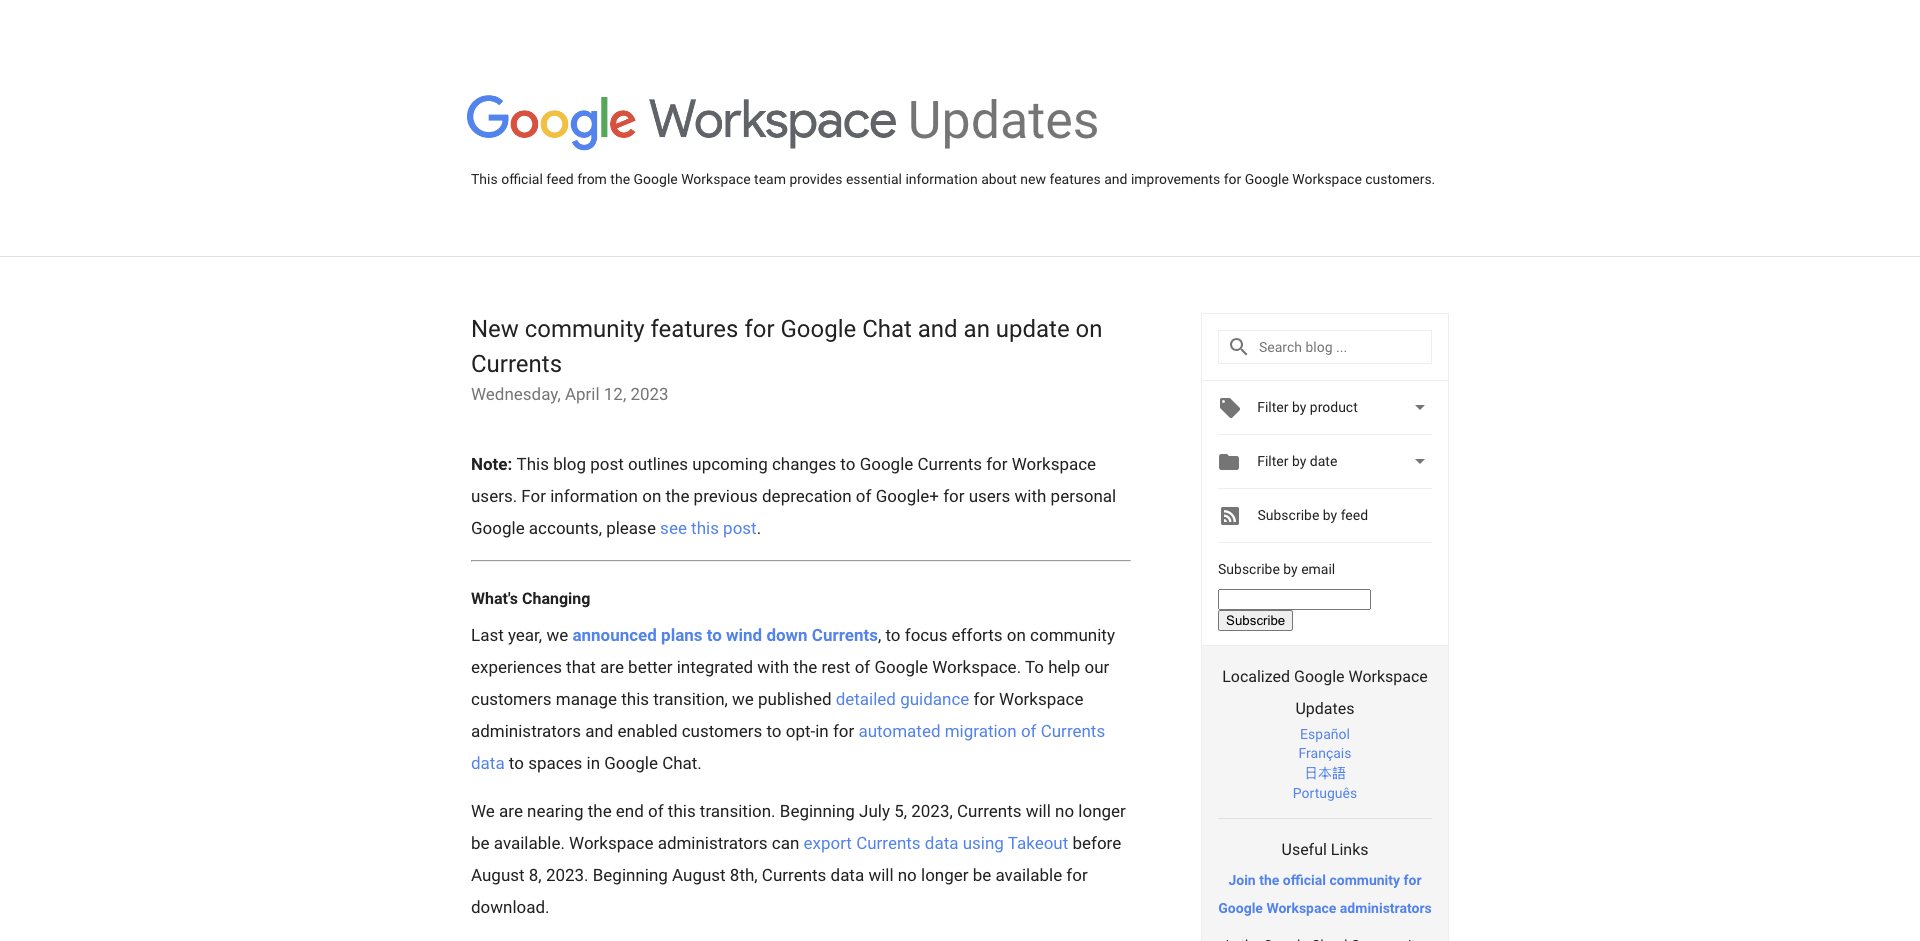button: (1218, 610, 1293, 631)
input: (1218, 330, 1431, 364), (1218, 589, 1371, 610)
link: (471, 315, 1102, 379), (471, 720, 1106, 773), (467, 96, 896, 156), (1218, 872, 1431, 916), (572, 625, 878, 644), (803, 833, 1068, 853), (1218, 499, 1368, 523), (907, 142, 1100, 158), (835, 689, 970, 709), (660, 518, 757, 538), (1293, 784, 1357, 800), (1298, 745, 1352, 761), (1300, 725, 1349, 741), (1304, 765, 1346, 780)
